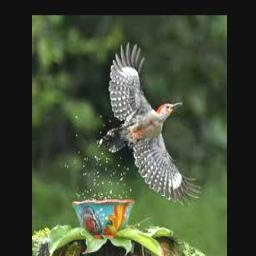Woodpecker: (101, 43, 201, 204)
